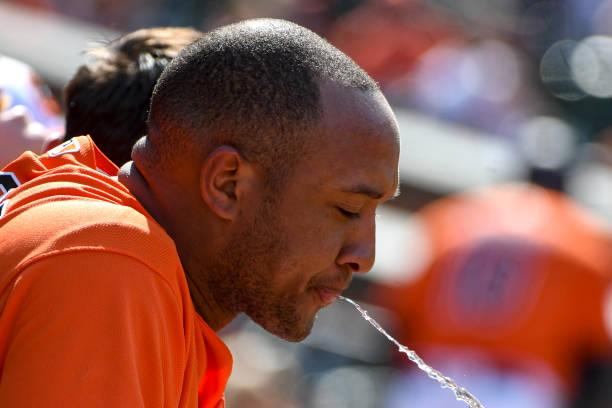Spitting: (132, 8, 433, 376)
